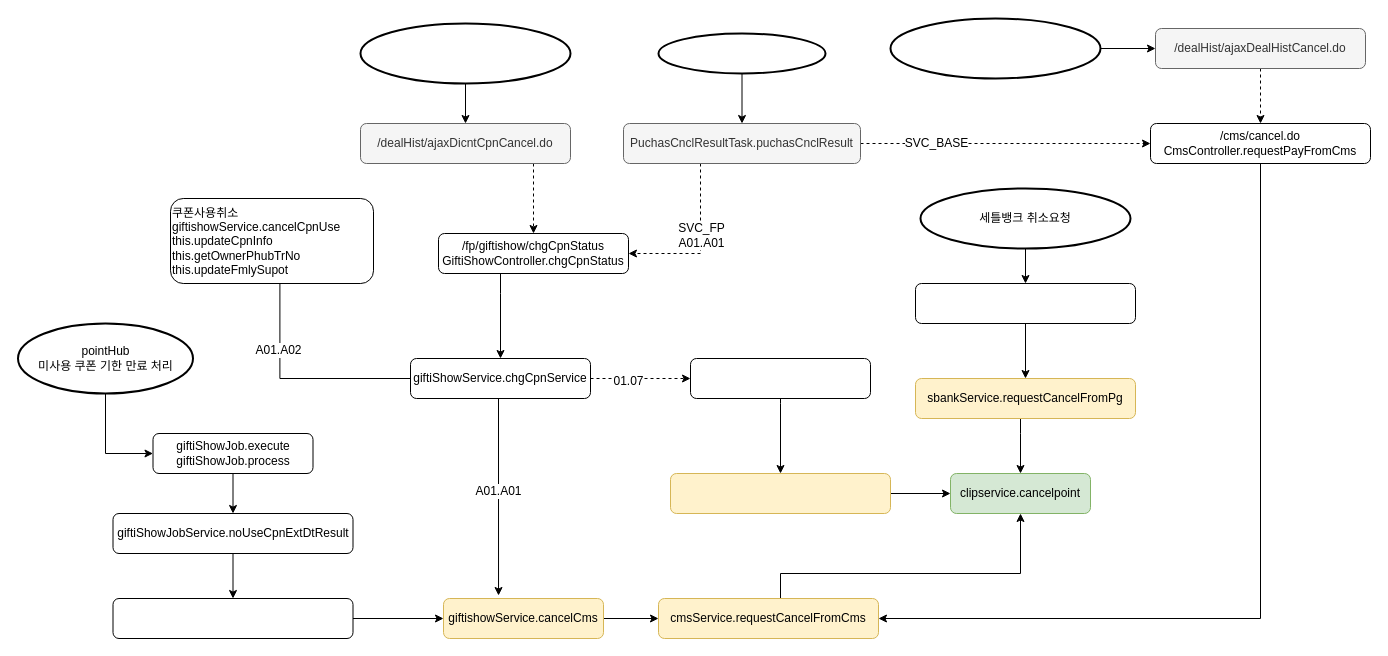
This 1388x656 diagram has some shape labels left out. Here are the shapes that lost their labels. From the top down, the centre of each, then its label:
At (x=465, y=53): "cms 패미리포인트 단말할인권 취소(A01.A01) 쿠폰사용취소(A01.A02)".
At (x=741, y=53): "cms 배치 매입취소처리".
At (x=995, y=48): "cms 포인트허브 취소".
At (x=1025, y=303): "/pg/pay SbankController.initPayFromPg".
At (x=780, y=378): "giftishowService.cancelCpnIsue".
At (x=780, y=493): "sbankService.requestCancelFromFp".
At (x=232, y=618): "noUseCpnExtDtTask.noUseCpnExtDtResult noUseCpnExtDtTask.cpnResult".
